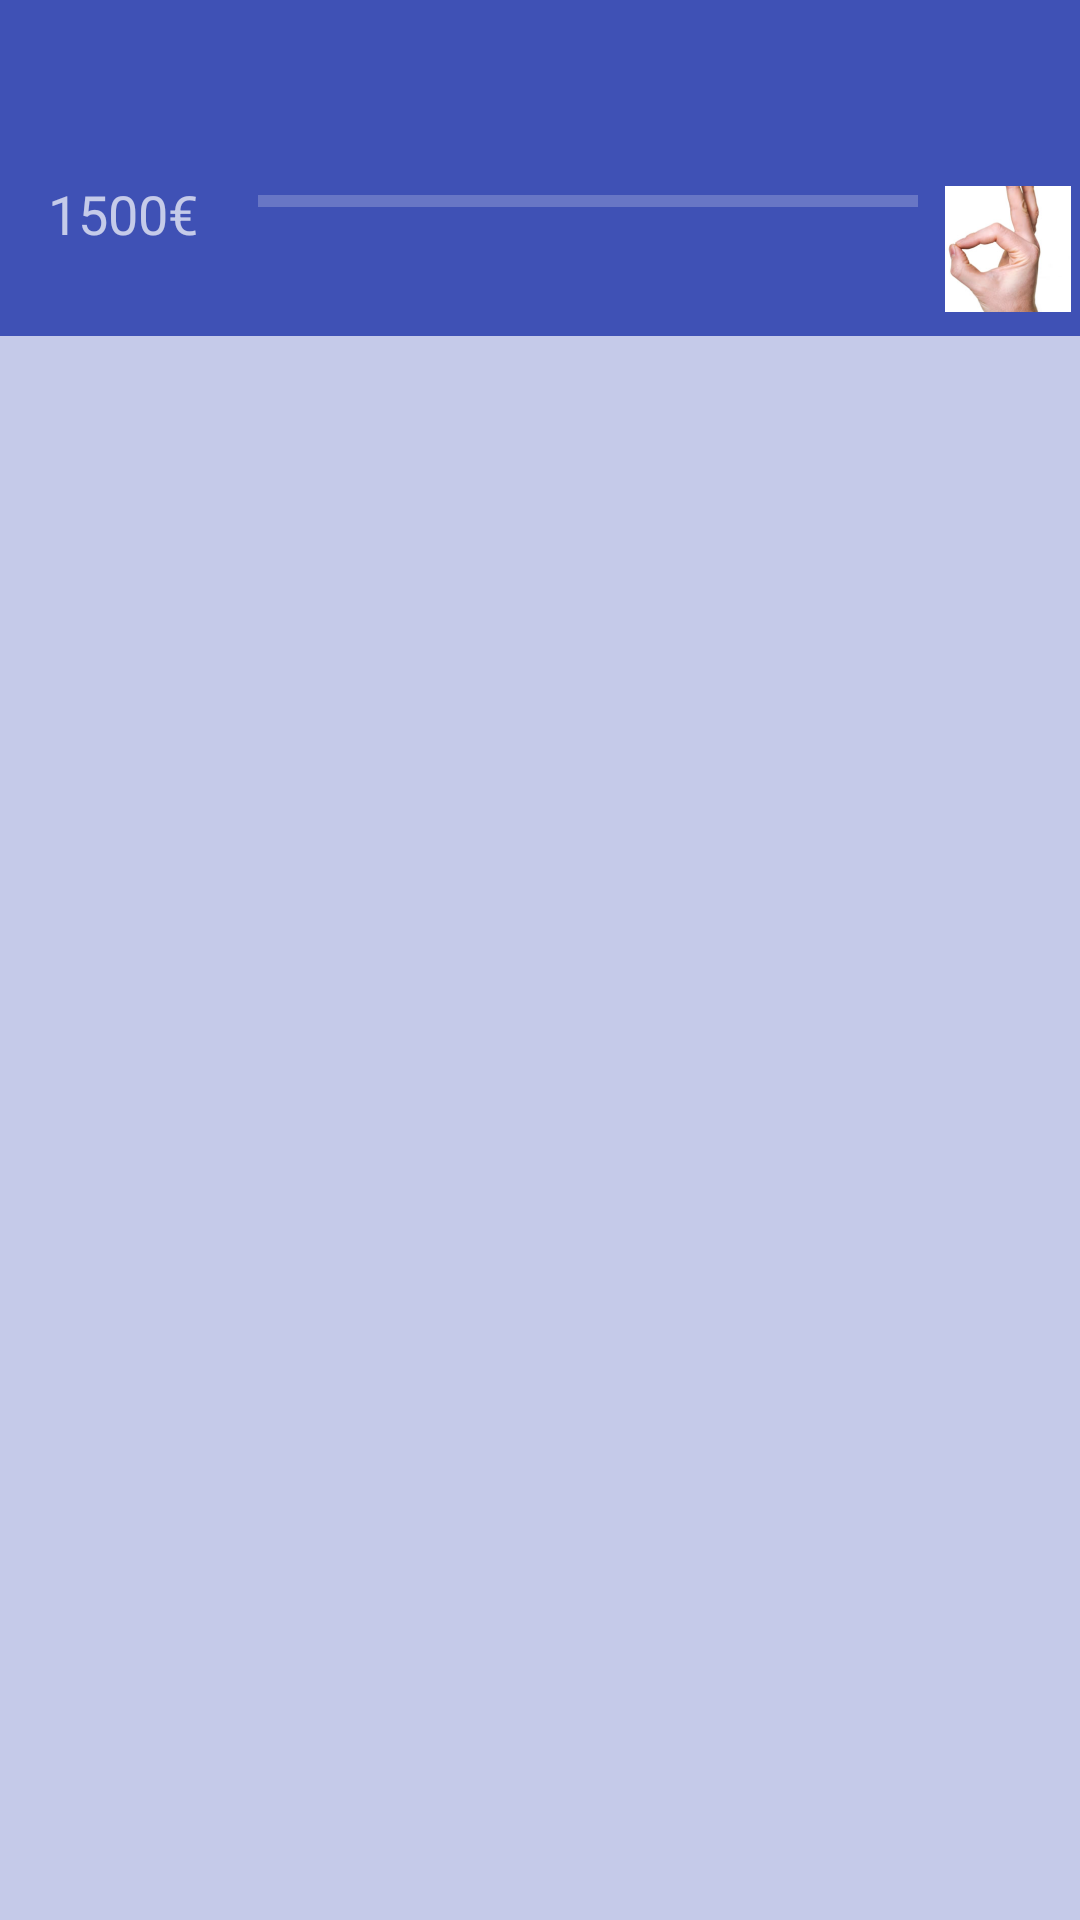

Point at icon controls on the screen. Image size 1080*1920, points as (x,y).
mano: (1008,249)
